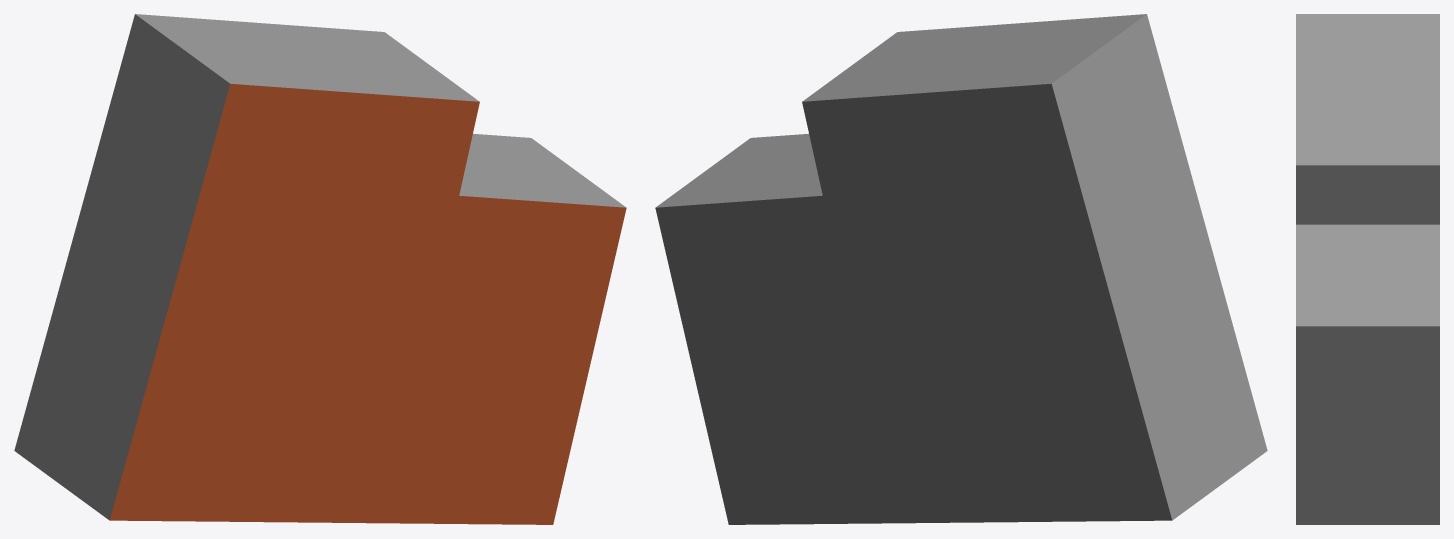
The model's file is construction_3239_assumed_A_Casa_h6m.obj.
3 views of the same model, side by side, from view 1: azimuth 30°, elevation 25°; view 2: azimuth 150°, elevation 25°; view 3: azimuth 270°, elevation 25° (orthographic). The views are drawn at different scales.
Parts seen in each view (by area): view 1: construction_3239_assumed_A_Casa; view 2: construction_3239_assumed_A_Casa; view 3: construction_3239_assumed_A_Casa.
Part boxes in pixels (x1=…): construction_3239_assumed_A_Casa: x1=14, y1=14, x2=626, y2=524; construction_3239_assumed_A_Casa: x1=655, y1=14, x2=1267, y2=524; construction_3239_assumed_A_Casa: x1=1296, y1=14, x2=1439, y2=524.
Bounding box in the file's own units: 18.79 × 18.06 × 6.
